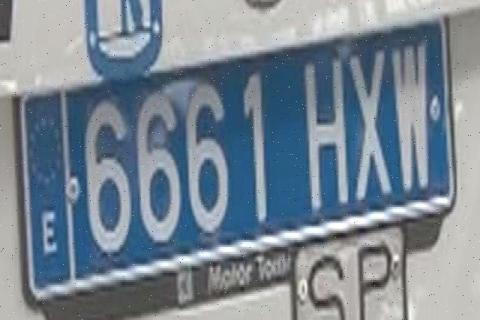LicensePlate: (18, 13, 458, 301)
